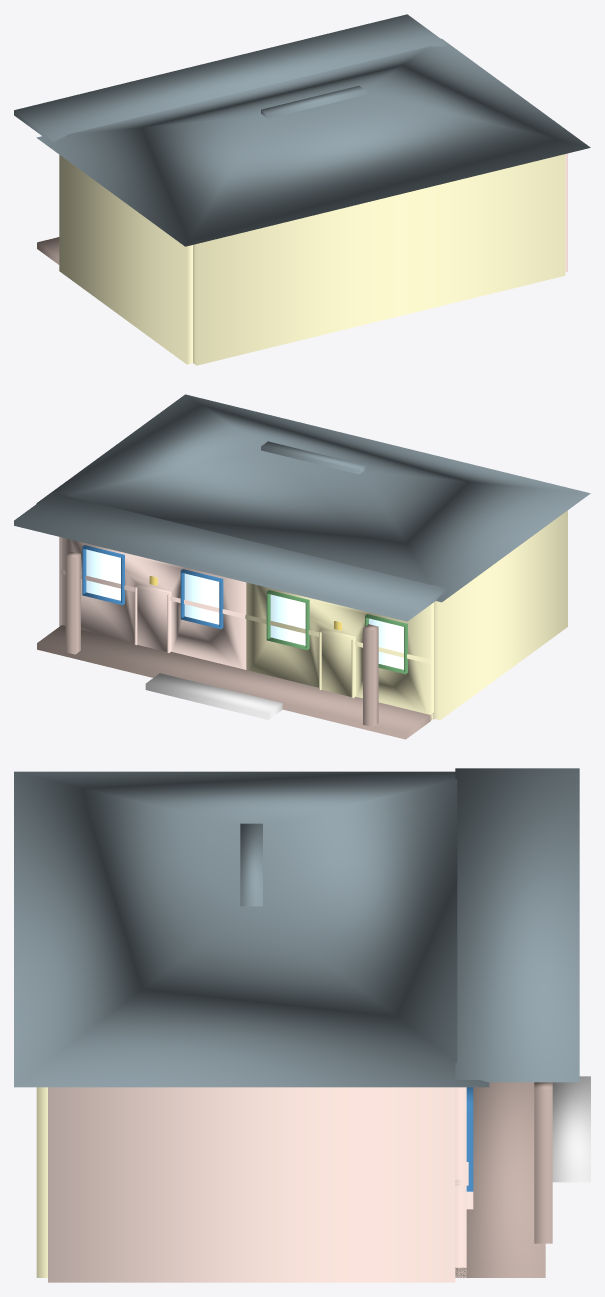
The model's file is Building_1_3.glb.
The picture shows the model from 3 angles, top to bottom: view 1: azimuth 30°, elevation 25°; view 2: azimuth 150°, elevation 25°; view 3: azimuth 270°, elevation 25°; orthographic projection. The views are drawn at different scales.
Parts seen in each view (by area): view 1: Roof, BackWall, SideWall_L, PorchRoof, RidgeCap; view 2: Roof, PorchRoof, SideWall_L, Wall_A, Wall_B, PorchFloor, Step, Pillar_L, Pillar_R, Win_A_R, Win_B_L, Win_B_R (+4 smaller); view 3: Roof, SideWall_R, PorchRoof, PorchFloor, Step, Pillar_R, BackWall, Wall_B, RidgeCap.
Part boxes in pixels (x1=…): Roof: x1=36, y1=38, x2=590, y2=246; BackWall: x1=193, y1=154, x2=565, y2=365; SideWall_L: x1=59, y1=155, x2=192, y2=364; PorchRoof: x1=14, y1=14, x2=446, y2=142; RidgeCap: x1=261, y1=86, x2=366, y2=118; Roof: x1=36, y1=394, x2=590, y2=602; PorchRoof: x1=14, y1=492, x2=446, y2=621; SideWall_L: x1=434, y1=510, x2=567, y2=720; Wall_A: x1=246, y1=582, x2=433, y2=720; Wall_B: x1=61, y1=537, x2=246, y2=669; PorchFloor: x1=37, y1=625, x2=433, y2=739; Step: x1=145, y1=673, x2=282, y2=719; Pillar_L: x1=363, y1=624, x2=378, y2=726; Pillar_R: x1=65, y1=551, x2=80, y2=654; Win_A_R: x1=270, y1=594, x2=305, y2=645; Win_B_L: x1=184, y1=573, x2=219, y2=624; Win_B_R: x1=86, y1=549, x2=120, y2=600; Roof: x1=14, y1=771, x2=489, y2=1087; SideWall_R: x1=48, y1=1087, x2=455, y2=1282; PorchRoof: x1=455, y1=768, x2=579, y2=1082; PorchFloor: x1=455, y1=1082, x2=545, y2=1277; Step: x1=552, y1=1076, x2=590, y2=1182; Pillar_R: x1=534, y1=1082, x2=552, y2=1243; BackWall: x1=36, y1=1087, x2=47, y2=1277; Wall_B: x1=455, y1=1087, x2=466, y2=1277; RidgeCap: x1=240, y1=823, x2=262, y2=906.
Size of the model in its own units: 3.3 by 1.34 by 2.55.
